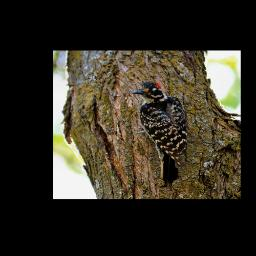Woodpecker: (132, 80, 184, 189)
